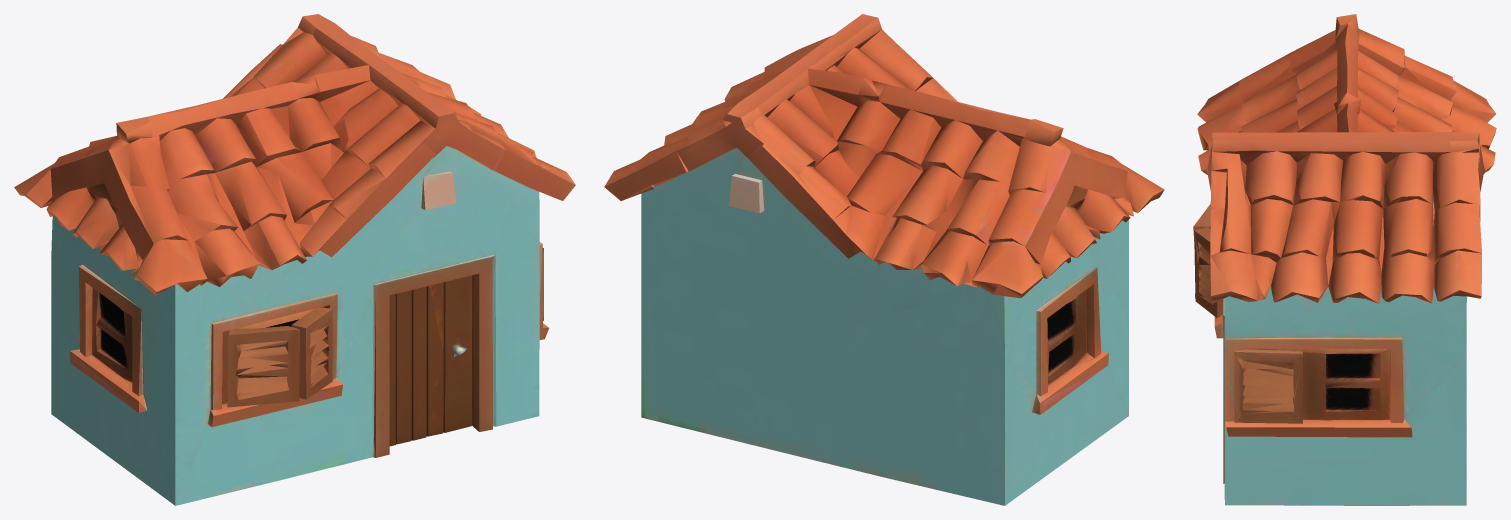
Rendered from house.glb.
3 views of the same model, side by side, from view 1: azimuth 30°, elevation 25°; view 2: azimuth 150°, elevation 25°; view 3: azimuth 270°, elevation 25° (orthographic). The views are drawn at different scales.
Visible parts, largest first — view 1: model; view 2: model; view 3: model.
Part boxes in pixels (x1,y1,x2,y2): model: (14, 14, 575, 505); model: (604, 14, 1164, 505); model: (1193, 14, 1496, 505).
Bounding box in the file's own units: 1.91 × 1.43 × 1.2.
1 material, 1 textured.
